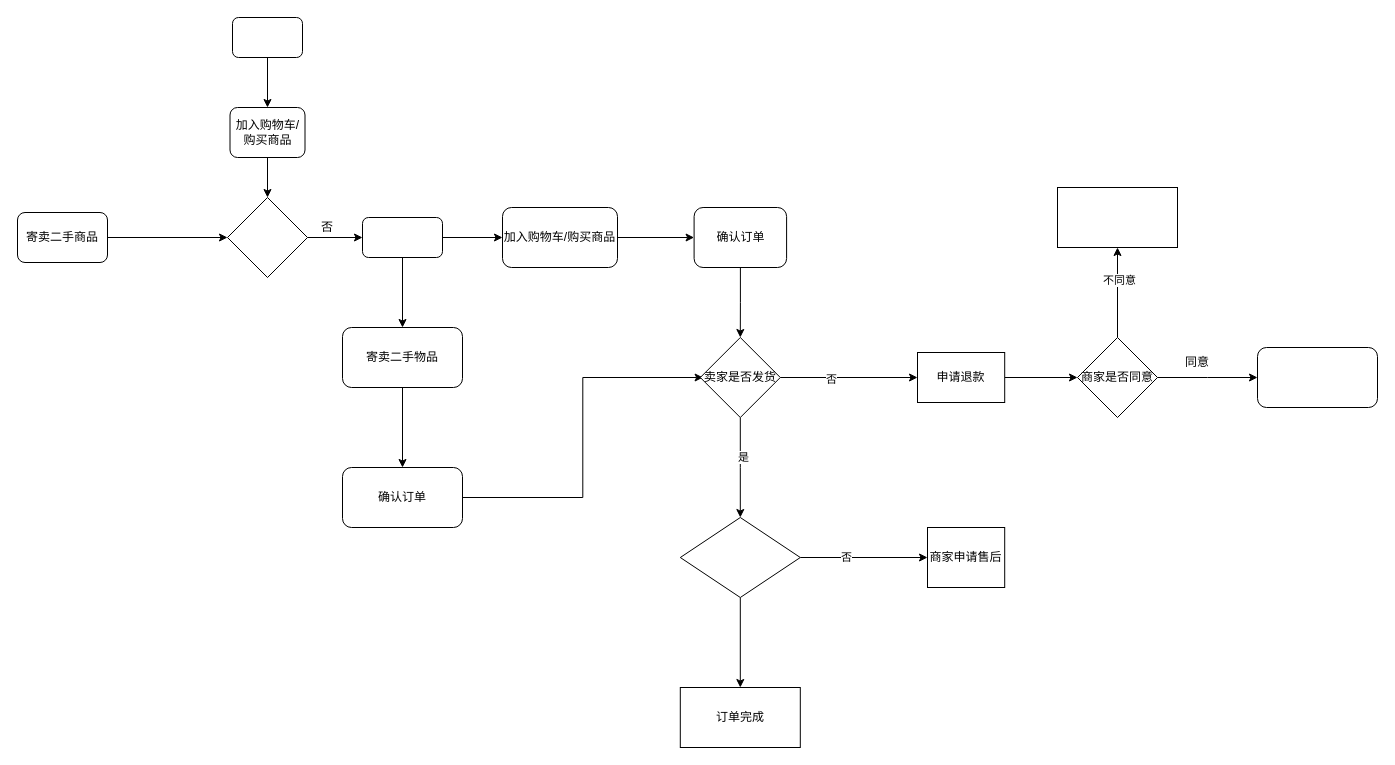
Image size: 1395x765. Some labels were removed from this diagram. The centre of each missing label's shape, as x and y in pixels:
取消订单: point 1317,377
售后介入: point 1117,217
是否登入: point 267,237
浏览商品: point 267,37
用户是否确认收货: point 739,557
登入\注册: point 402,237
